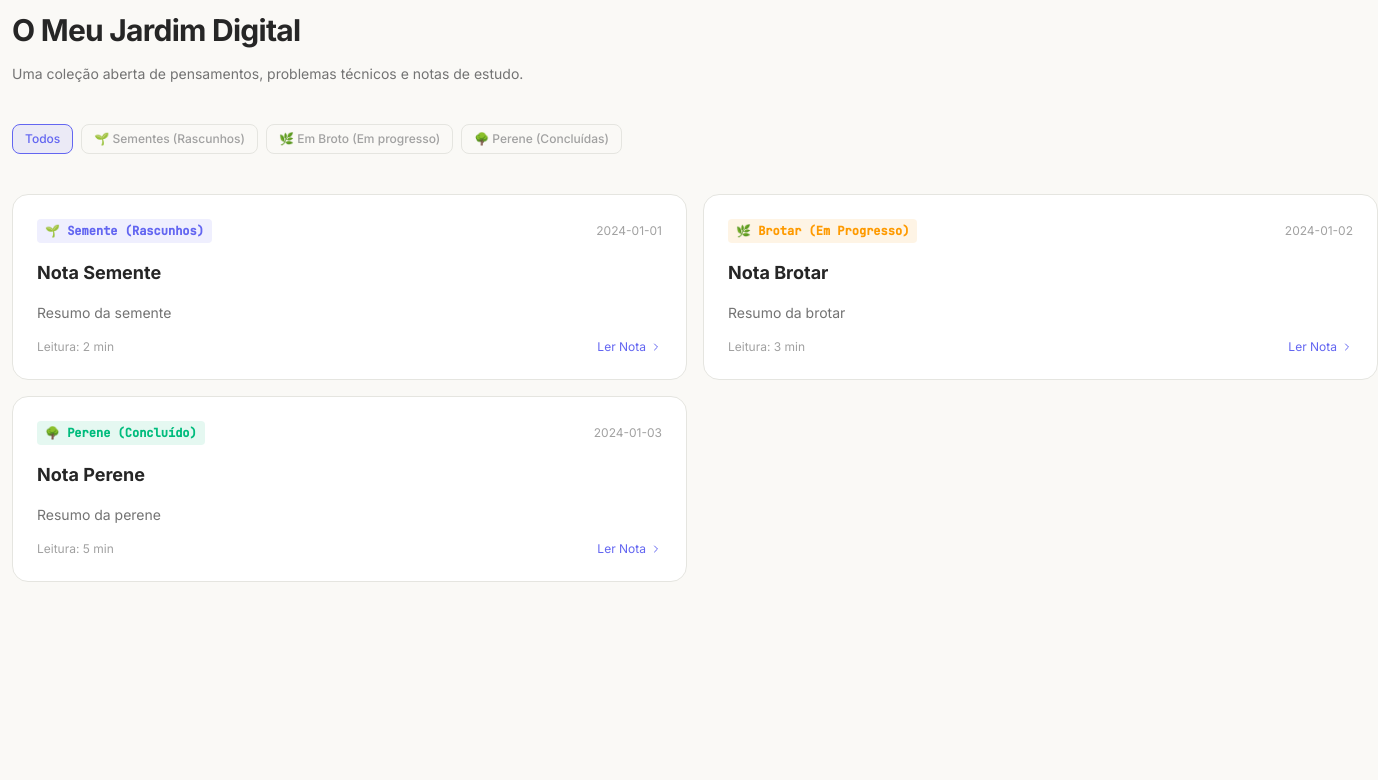
Test case: GardenSection › filtra apenas notas 'semente' ao clicar no filtro correspondente
The width and height of the screenshot is (1378, 780).
Click the button "🌱 Sementes (Rascunhos)". click: (170, 139)
box: [81, 124, 258, 154]
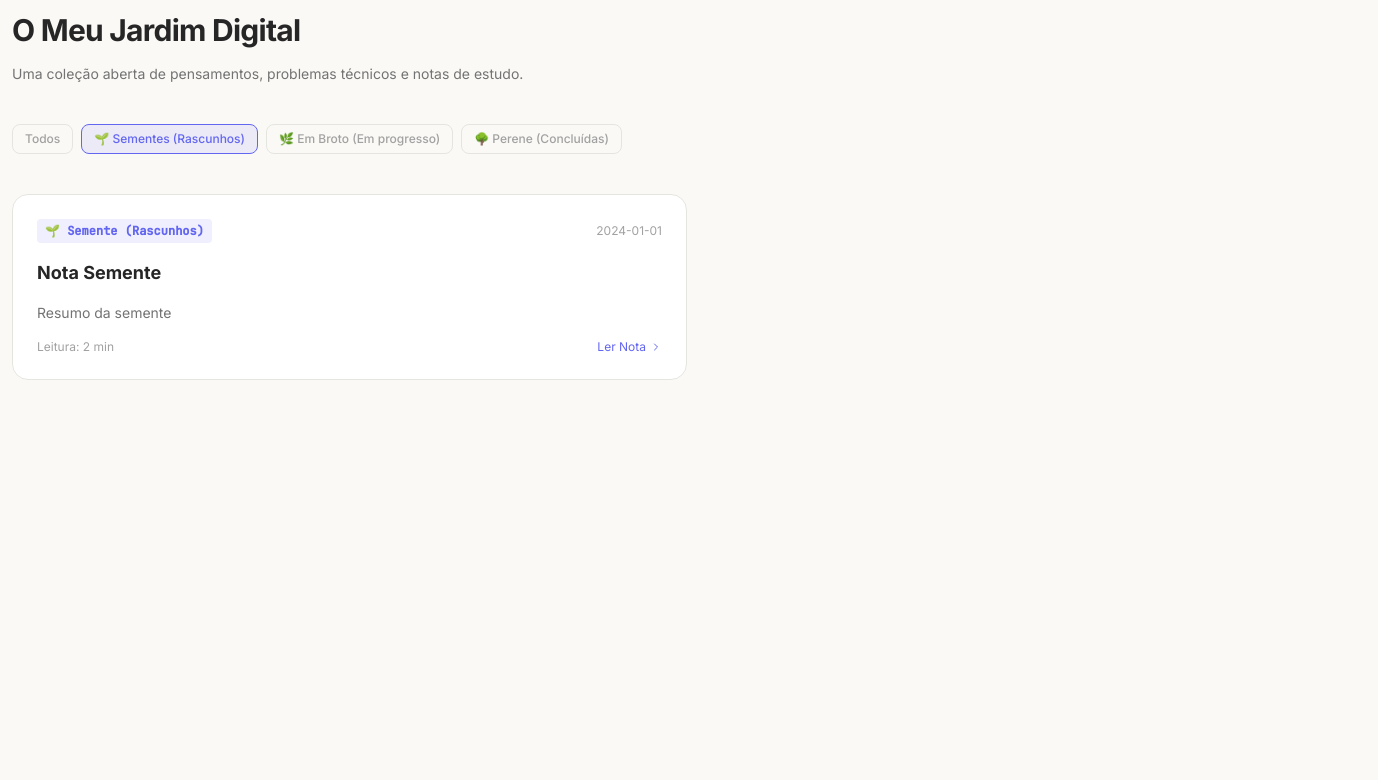
Expected: the heading "Nota Semente" is shown, [37, 262, 161, 283]
Now the heading "Nota Brotar" is gone
Now the heading "Nota Perene" is gone
